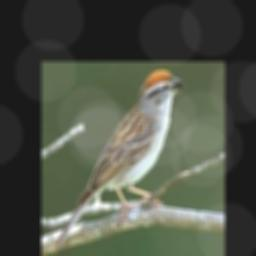Sparrow: (51, 68, 184, 254)
